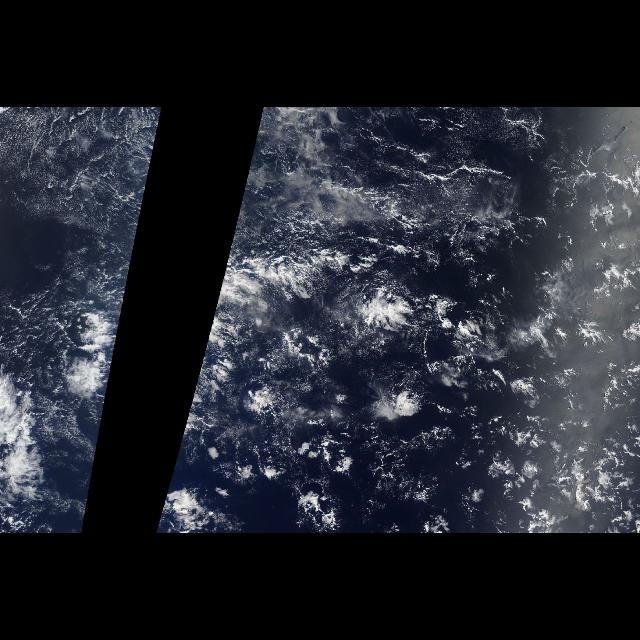Flower: (154, 212, 636, 534), (63, 212, 141, 534)
